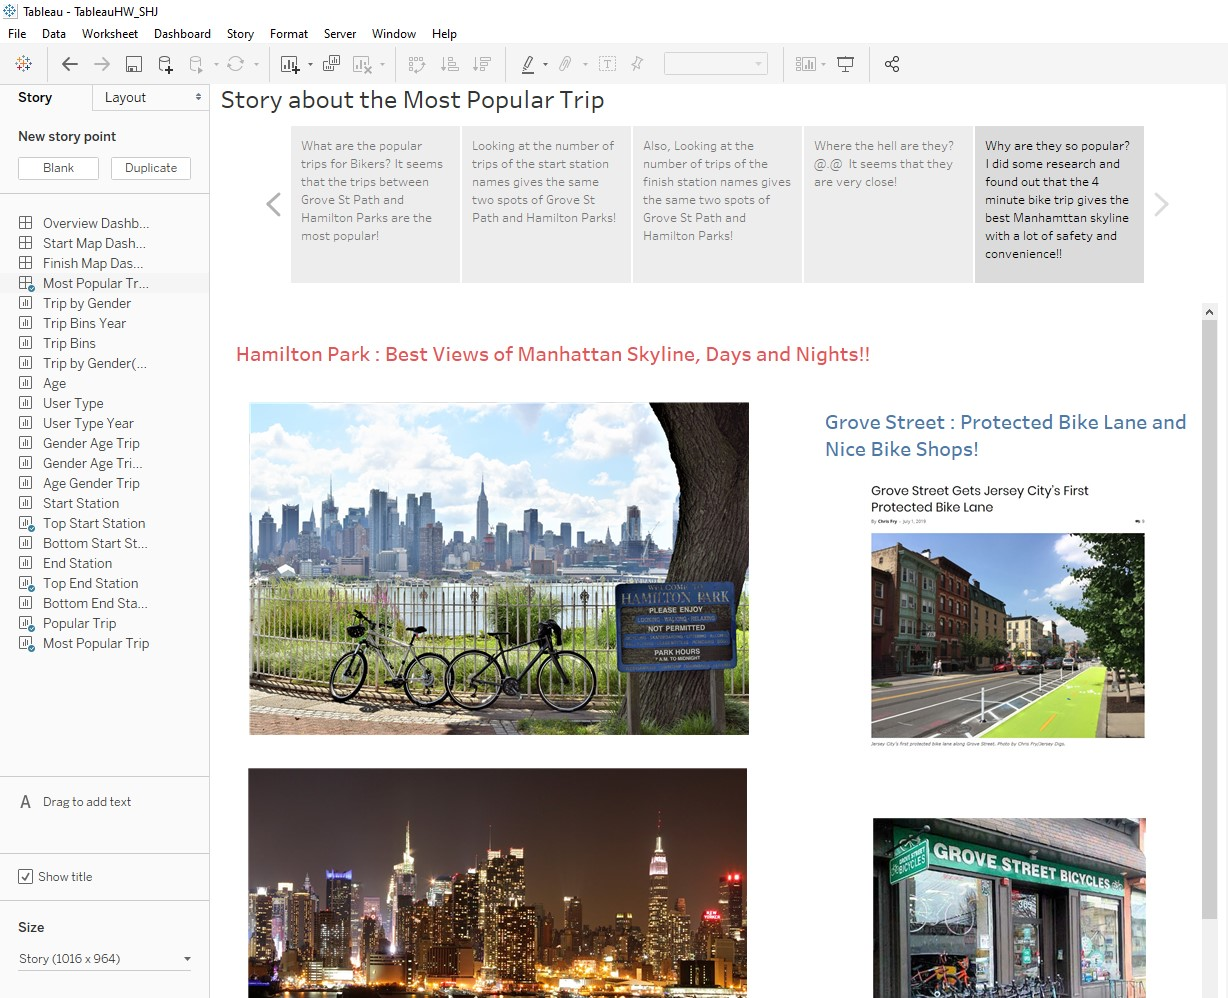

The dashboard page shown, as its layout file describes it:
{"tool":"tableau","page":{"name":"Most Popular Trip Pics","canvas":[1000,800],"ordinal":1},"visuals":[{"type":"text","box":[15,22,842,57]},{"type":"text","box":[604,81,396,102]},{"type":"image","param":"C:/Users/beste/Tableau/hamilton park.jfif","box":[31,99,500,358]},{"type":"image","param":"C:/Users/beste/Tableau/Grove st.jpg","box":[646,178,287,321]},{"type":"image","param":"C:/Users/beste/Tableau/hamilton park night.jpg","box":[30,465,499,327]},{"type":"image","param":"C:/Users/beste/Tableau/Grove_Storefront_450.jpg","box":[655,515,313,273]}]}

Visuals, with their boxes on the page's 1000x800 design canvas (x1, y1, x2, y2). These are canvas units, not pixel positions in the 1228x998 screenshot, which may show the page scaled, cropped or inside an application window:
text: <bbox>15, 22, 857, 79</bbox>
text: <bbox>604, 81, 1000, 183</bbox>
image: <bbox>31, 99, 531, 457</bbox>
image: <bbox>646, 178, 933, 499</bbox>
image: <bbox>30, 465, 529, 792</bbox>
image: <bbox>655, 515, 968, 788</bbox>
